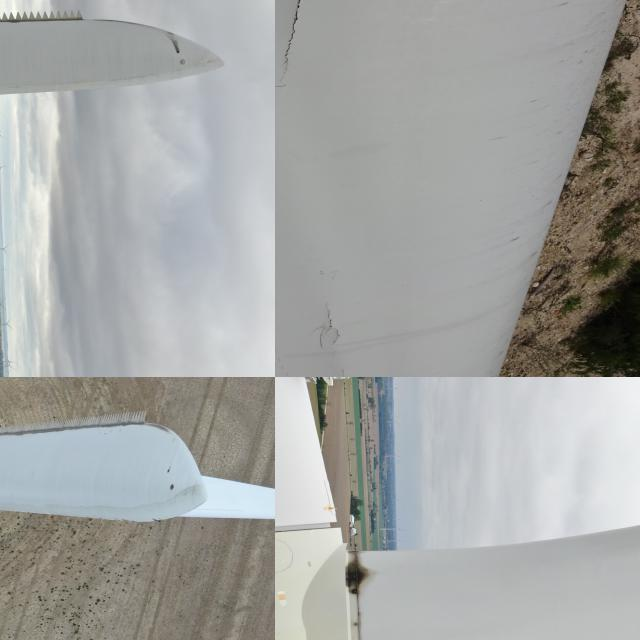damage: (275, 0, 380, 93), (290, 273, 359, 353), (340, 556, 384, 598), (327, 360, 354, 376), (167, 30, 183, 53), (112, 516, 136, 522), (150, 514, 170, 521), (165, 468, 172, 472)
